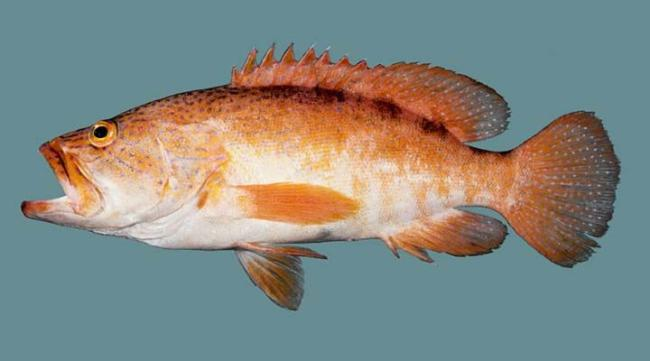fish: (20, 42, 622, 312)
